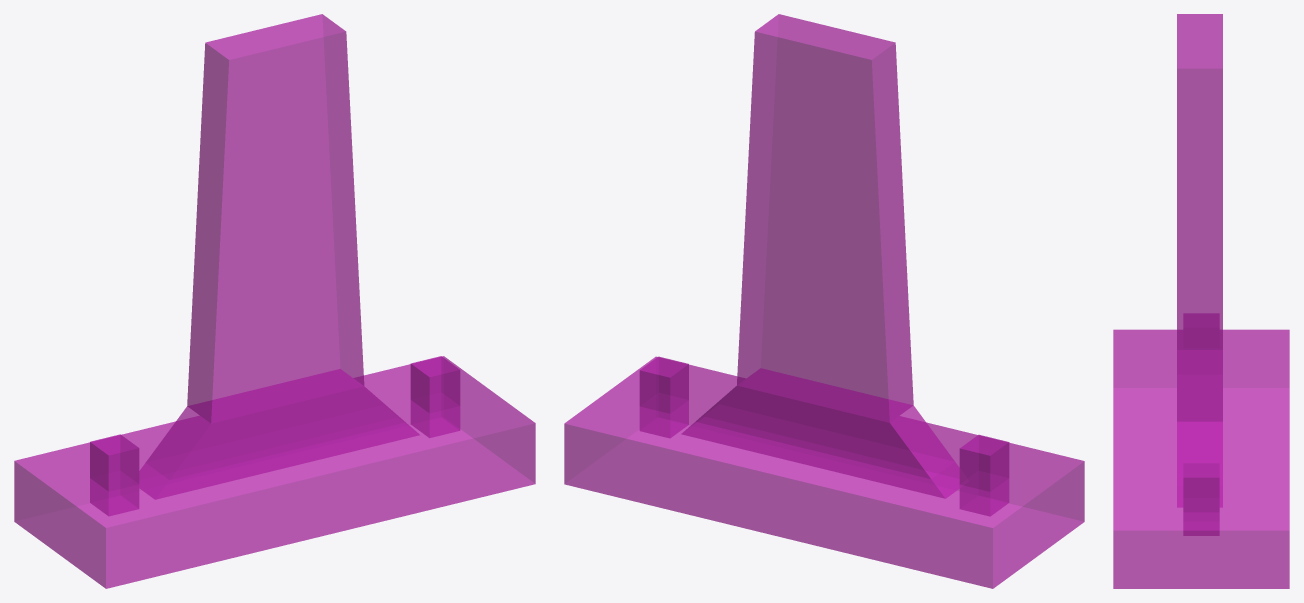
Rendered from SM_Veh_Helm_03_Collision.fbx.
3 views of the same model, side by side, from view 1: azimuth 30°, elevation 25°; view 2: azimuth 150°, elevation 25°; view 3: azimuth 270°, elevation 25° (orthographic). The views are drawn at different scales.
Visible parts, largest first — view 1: SM_Veh_Helm_03_Collision; view 2: SM_Veh_Helm_03_Collision; view 3: SM_Veh_Helm_03_Collision.
Boxes of the visible parts, x1,y1,x2,y2 form: SM_Veh_Helm_03_Collision: (14,14,535,588); SM_Veh_Helm_03_Collision: (564,14,1084,588); SM_Veh_Helm_03_Collision: (1113,14,1289,588).
Bounding box in the file's own units: 114 × 118 × 42.28.
